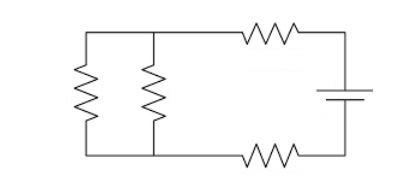resistor: (132, 48, 183, 129), (62, 49, 108, 136), (232, 7, 311, 51), (229, 133, 305, 174)
